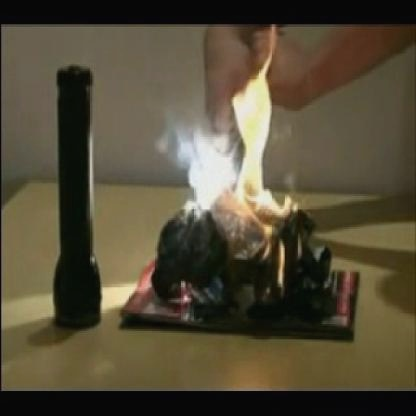fire: (176, 38, 297, 244)
